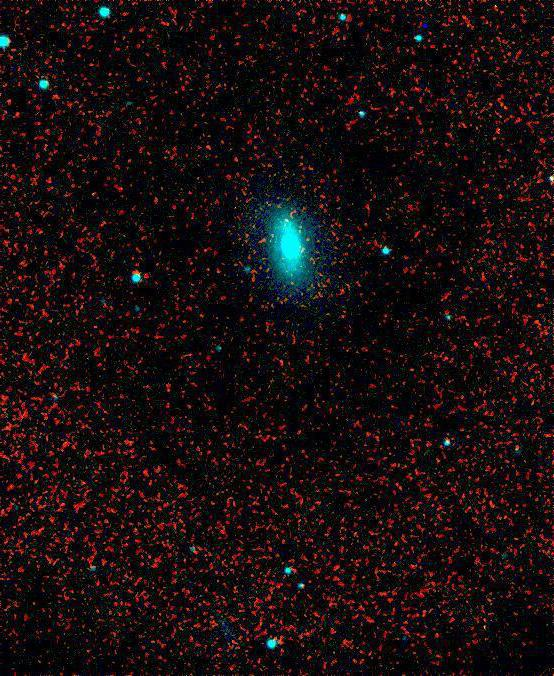star: (214, 189, 244, 219)
